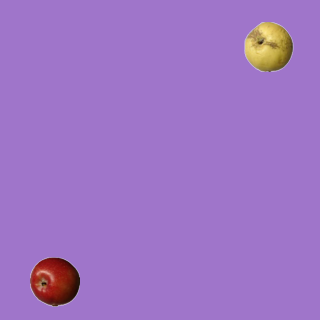Apple Braeburn: (29, 256, 79, 306)
Apple Golden 1: (243, 21, 293, 71)
